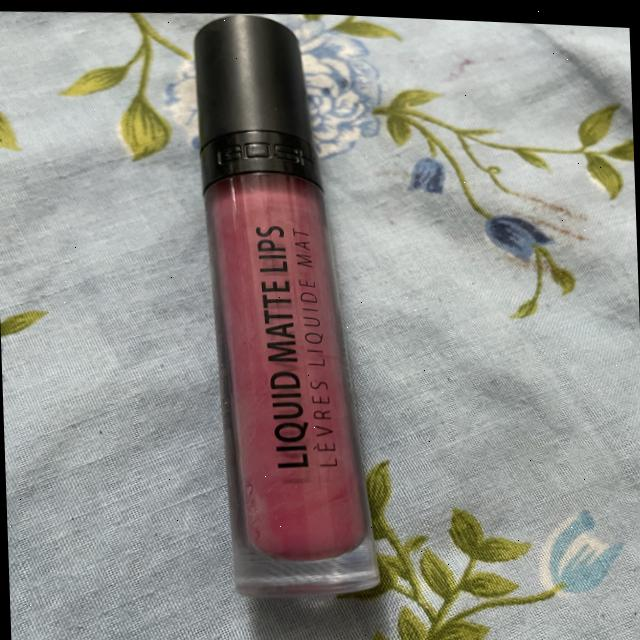lip gloss: (174, 6, 417, 612)
